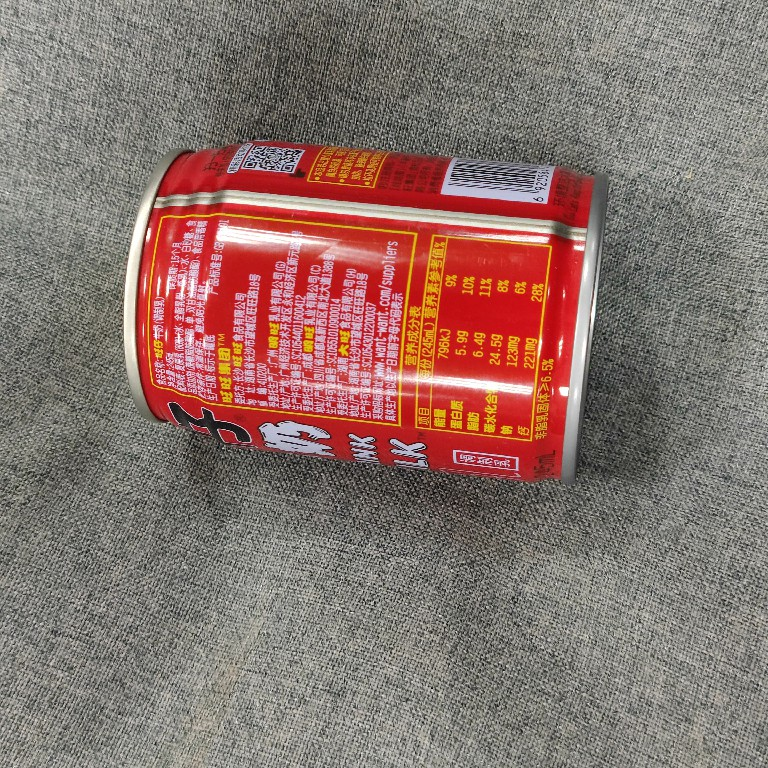can: (116, 137, 611, 490)
